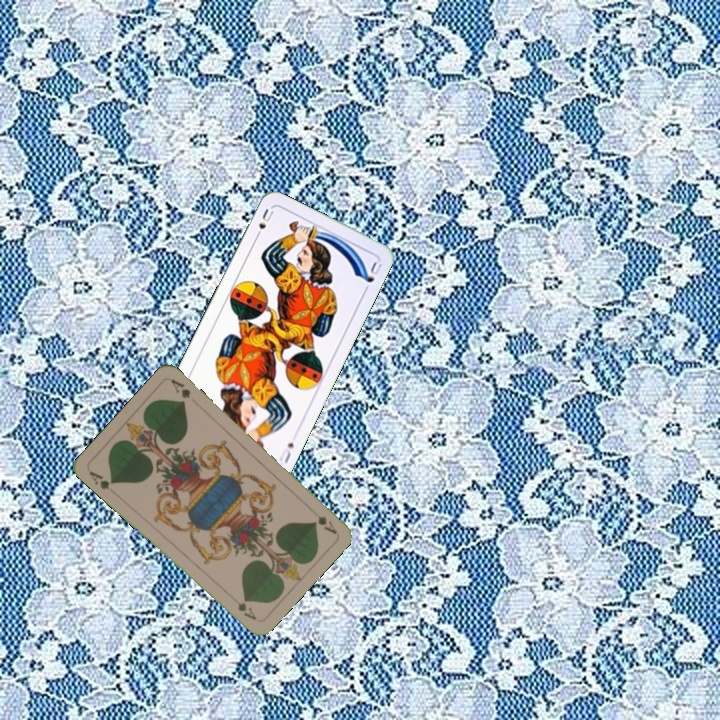GA: (84, 467, 117, 492), (314, 512, 339, 536)
SU: (251, 205, 276, 242), (275, 439, 296, 466)
